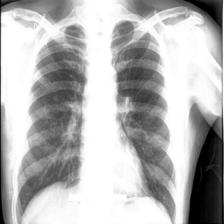tuberculosis: (11, 14, 177, 224)
